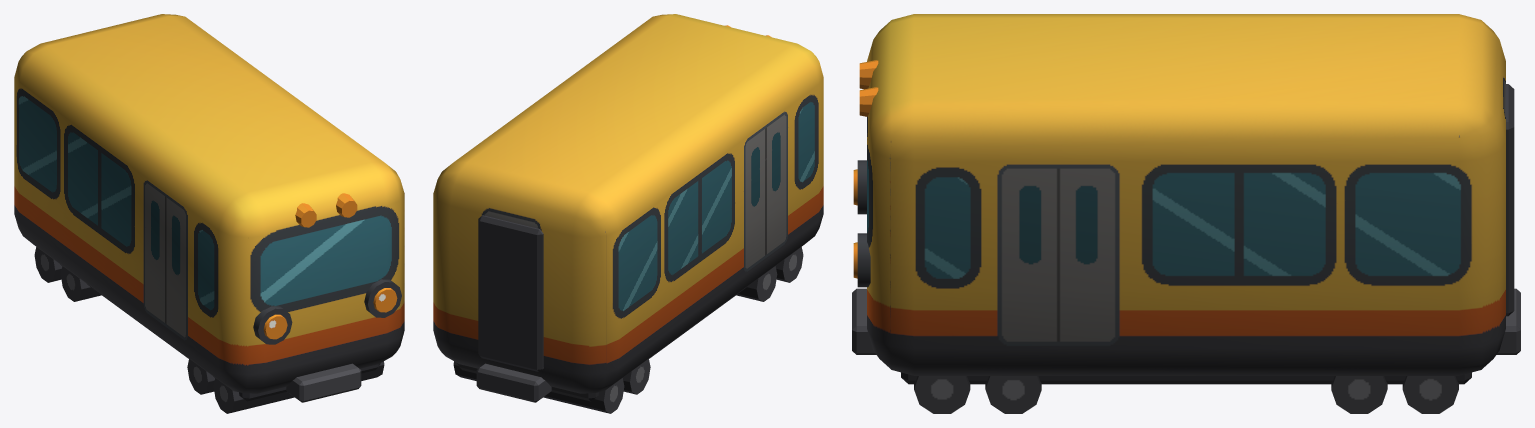
The model's file is TrainCab_Yellow.fbx.
3 renders of one model, left to right at view 1: azimuth 30°, elevation 25°; view 2: azimuth 150°, elevation 25°; view 3: azimuth 270°, elevation 25°, orthographic. The views are drawn at different scales.
Visible parts, largest first — view 1: TrainCab_Yellow; view 2: TrainCab_Yellow; view 3: TrainCab_Yellow.
Boxes of the visible parts, x1,y1,x2,y2 form: TrainCab_Yellow: (14,14,404,413); TrainCab_Yellow: (433,14,823,413); TrainCab_Yellow: (852,14,1520,413).
Bounding box in the file's own units: 7.6 × 8.96 × 17.8.
1 material, 1 textured.
